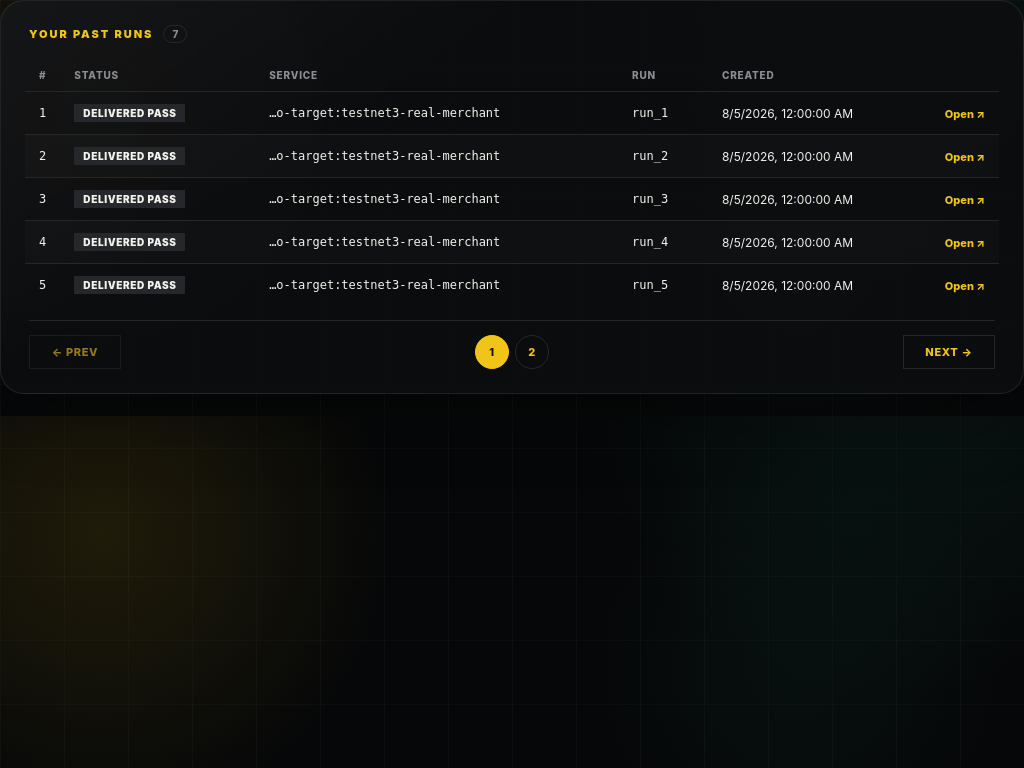
RunHistory › shows five runs per page and preserves the absolute row numbers
Expected: the number of links "Open ↗" is 5, left=945, top=106, right=985, bottom=120; left=945, top=150, right=985, bottom=164; left=945, top=192, right=985, bottom=206; left=945, top=236, right=985, bottom=250; left=945, top=278, right=985, bottom=292
Click the button with aria-label "Next page".
click(949, 352)  # box left=903, top=335, right=995, bottom=369
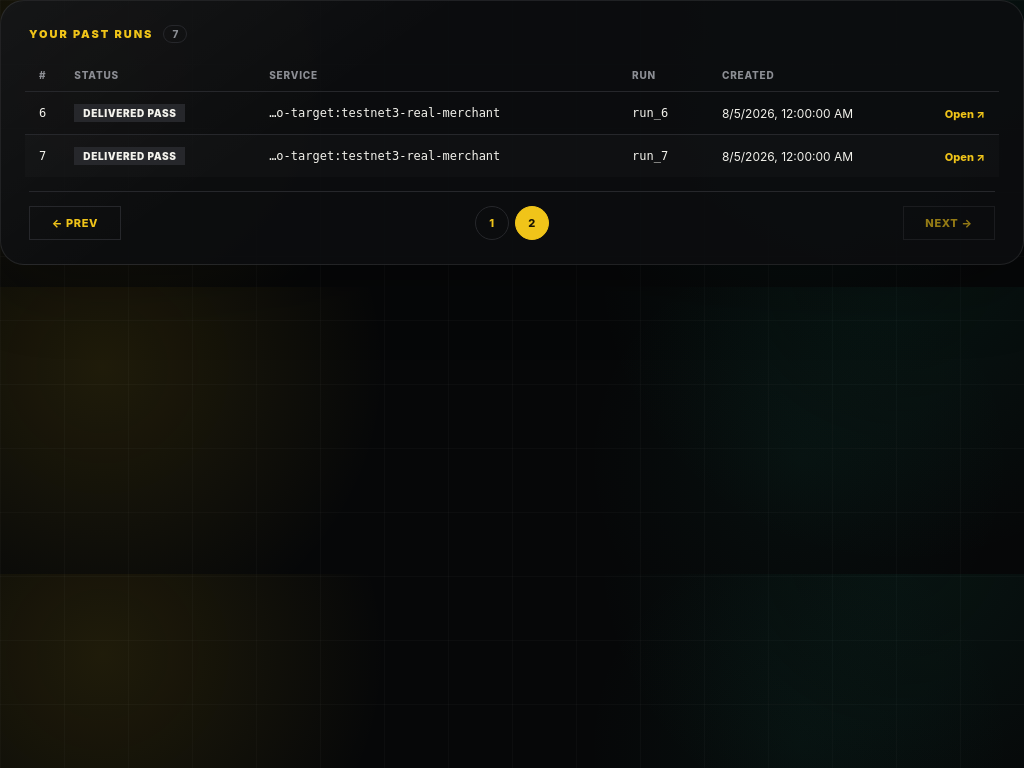
Expected: the text "6" is shown, left=25, top=92, right=60, bottom=134
Result: the number of links "Open ↗" is 2 at left=945, top=106, right=985, bottom=120; left=945, top=150, right=985, bottom=164
Result: the cell titled "run_6" is shown at left=618, top=92, right=708, bottom=134
